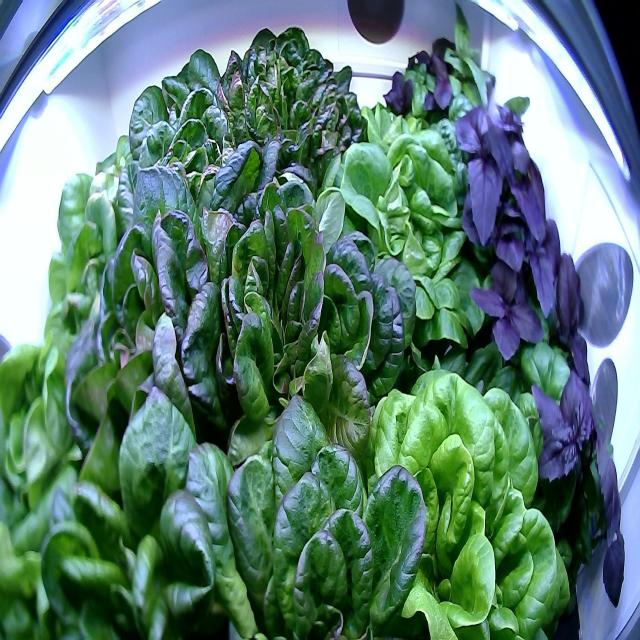Ready: (168, 306, 434, 640), (175, 124, 424, 438), (32, 304, 231, 640), (353, 354, 574, 639), (56, 158, 238, 461), (335, 126, 498, 367), (212, 6, 376, 229), (0, 304, 105, 640), (122, 37, 244, 238), (34, 170, 141, 346)
young: (347, 85, 446, 178)
